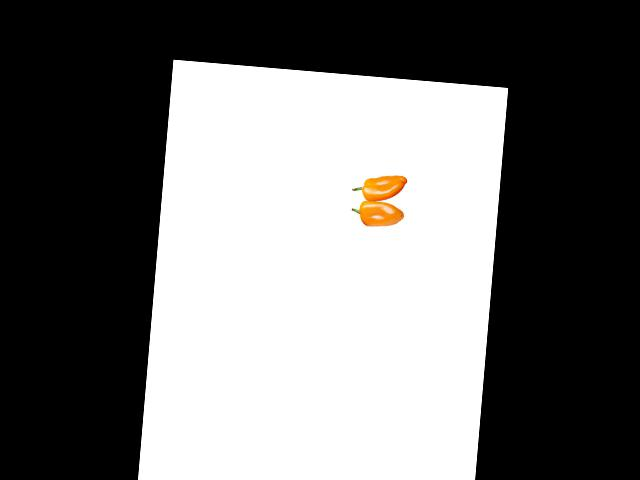bell_pepper: (348, 198, 415, 235)
